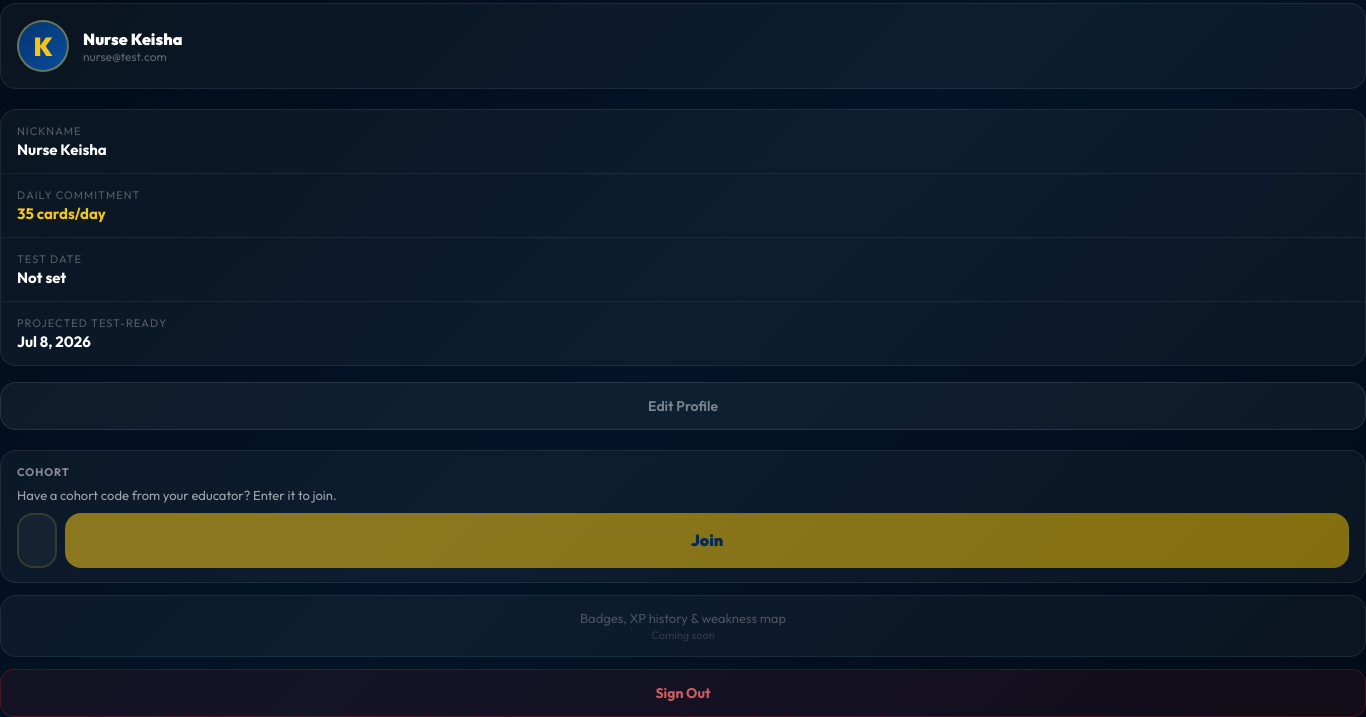
Test: ProfileTab › edit mode shows nickname input
Click the button "Edit Profile". click: (683, 406)
box: [0,382,1365,430]
(page scrolled)
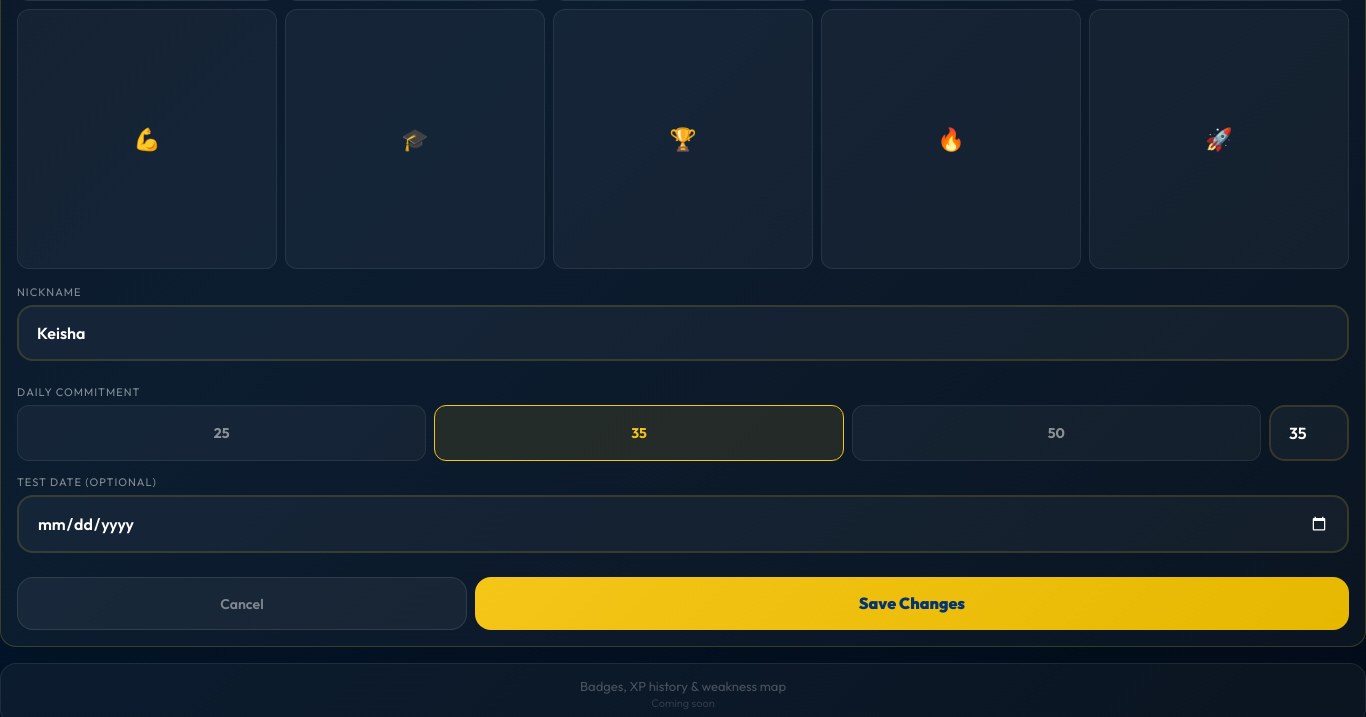
Expected: the field with placeholder "Nurse Keisha" holds "Keisha", [17,305,1349,361]
